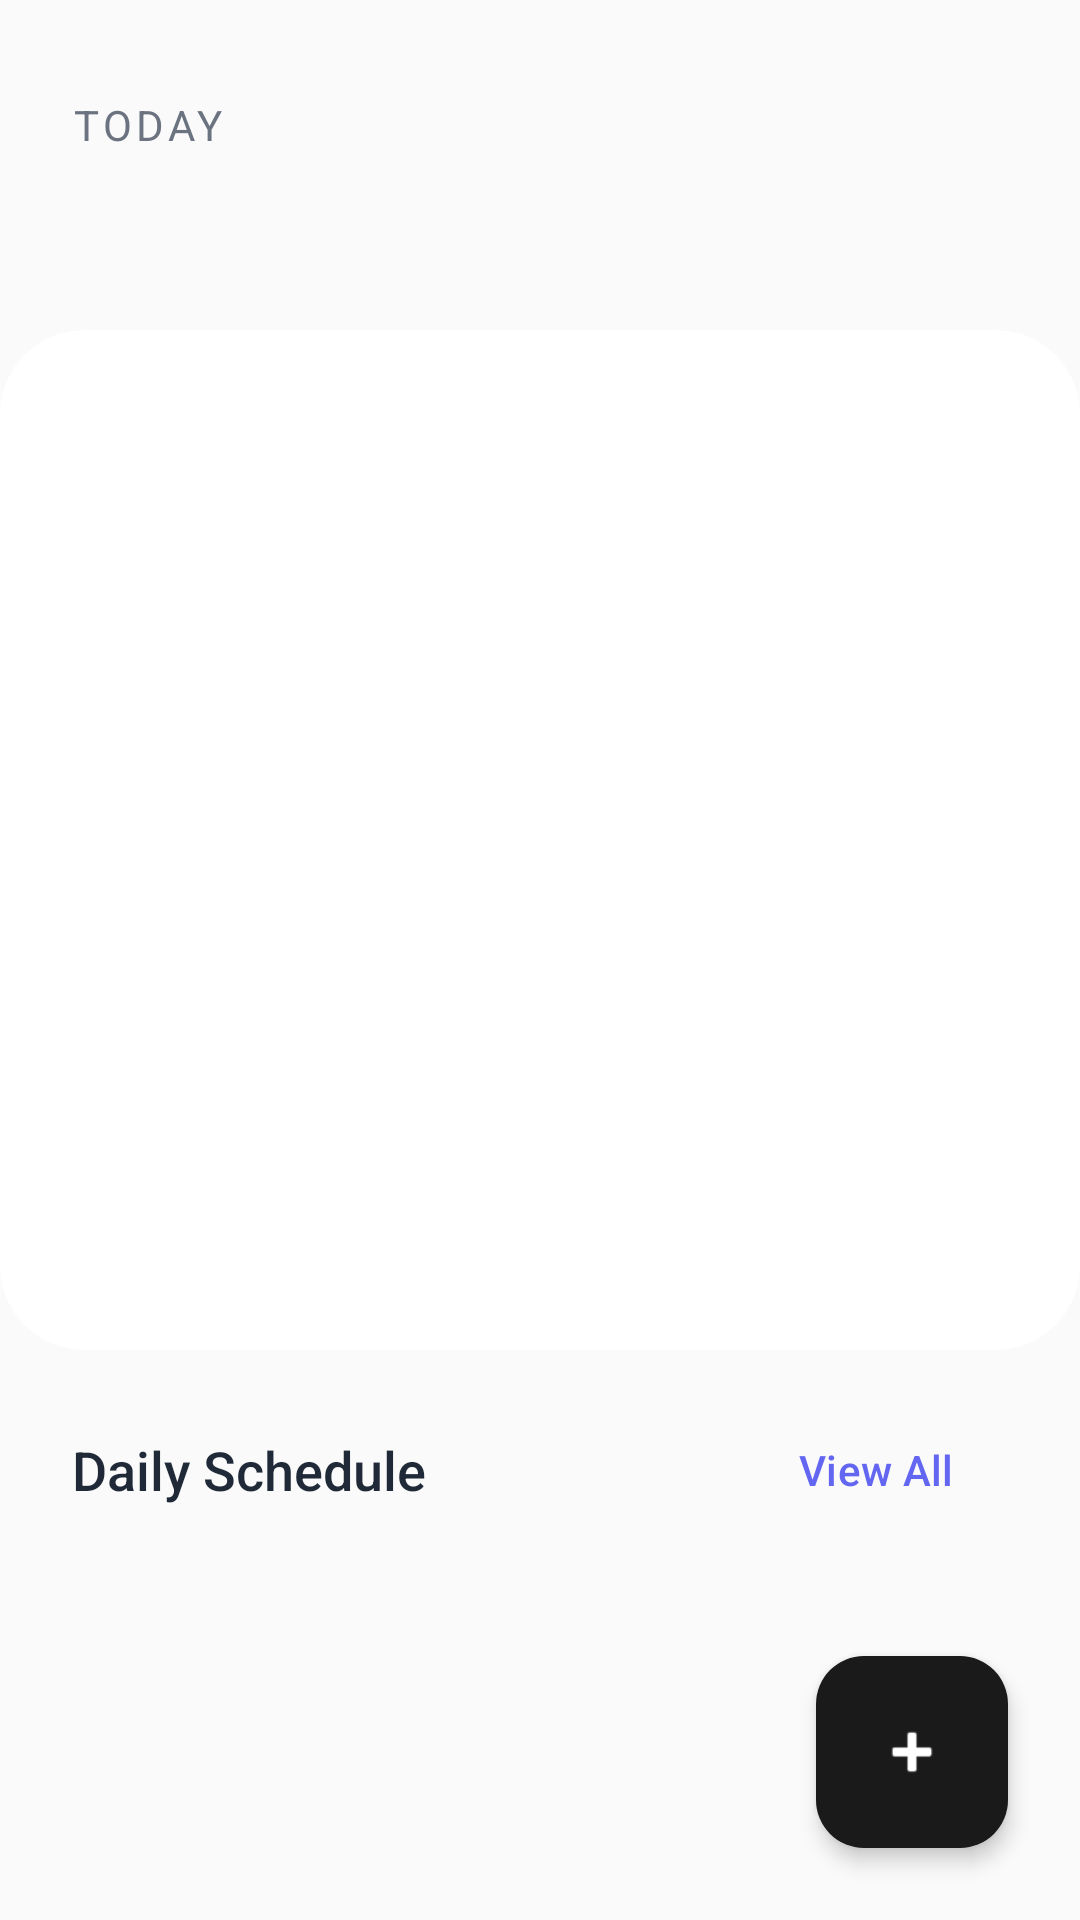

Point at icon controls on the screen. Image size 1080 x 1920, points as (x=x, y=y).
Add Event: (x=912, y=1752)
